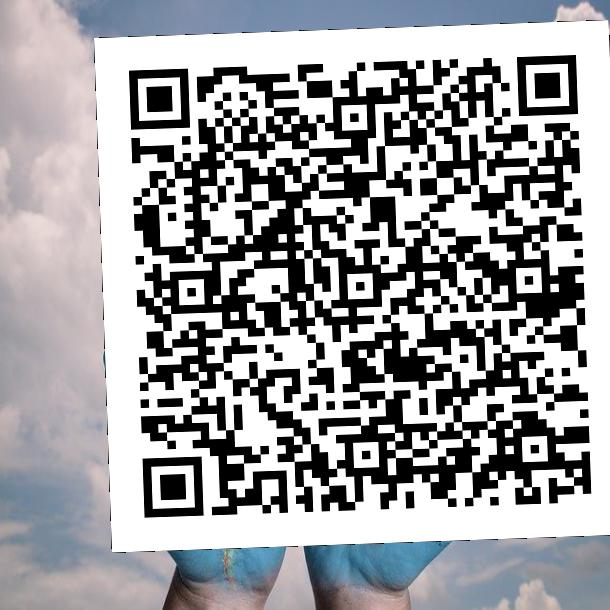qr_code: (94, 28, 609, 544)
